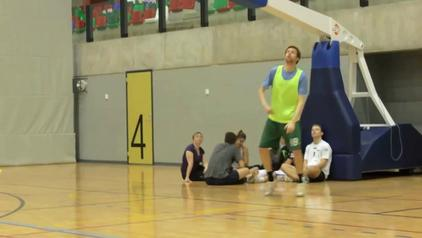sit: (293, 127, 334, 186)
walk: (259, 47, 307, 169)
